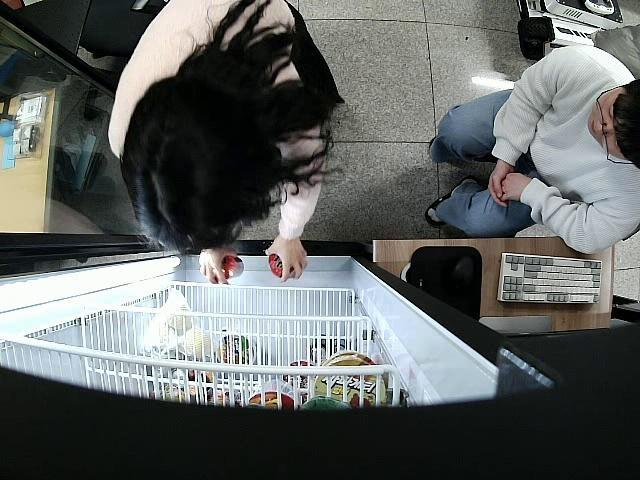02_shinRamen_S: (211, 252, 244, 283), (268, 251, 296, 278)
